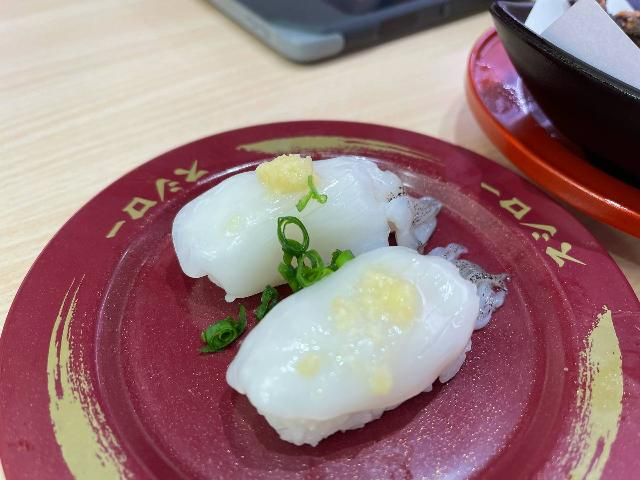janred: (89, 115, 609, 480), (449, 33, 640, 226)
